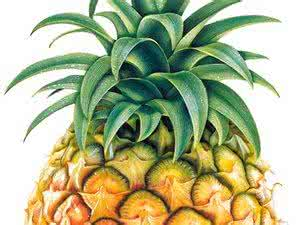pineapple: (18, 1, 279, 225)
